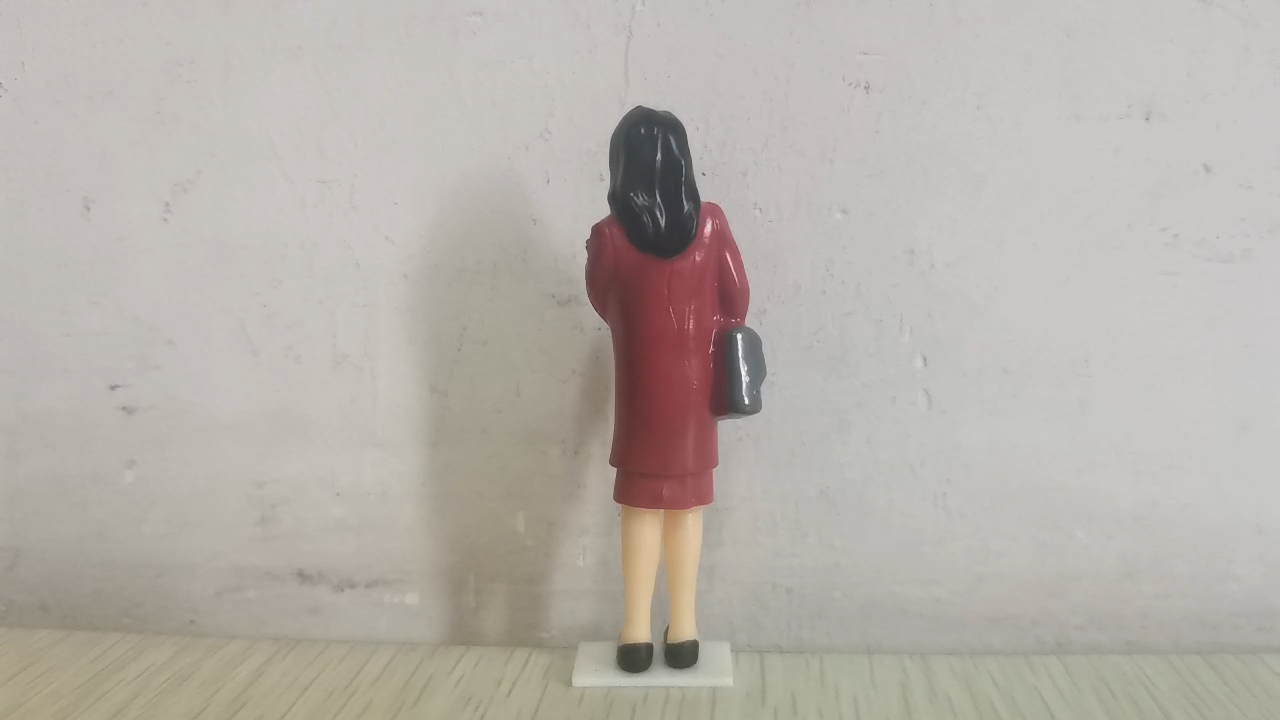person: (579, 102, 770, 678)
